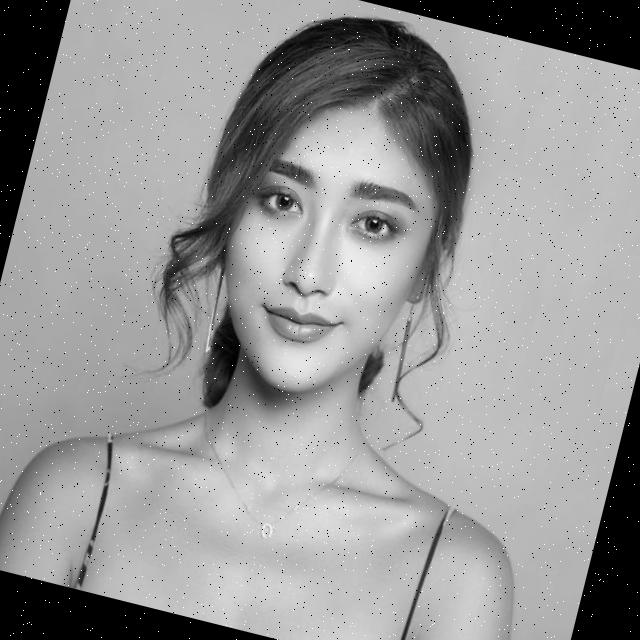Happiness: (190, 80, 466, 422)
